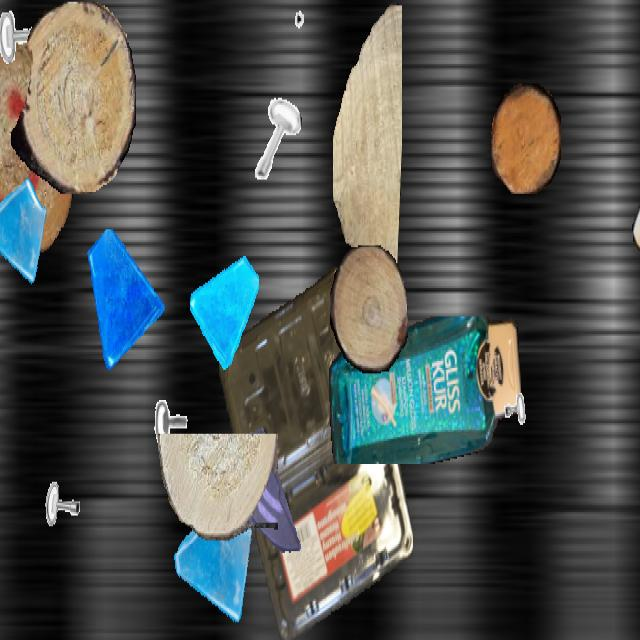glass: (172, 489, 256, 638), (85, 230, 165, 372), (226, 416, 306, 558), (190, 247, 258, 368), (0, 172, 49, 294)
metal: (0, 2, 53, 108), (39, 439, 91, 532), (251, 92, 301, 182), (152, 366, 198, 448), (495, 351, 539, 428), (294, 2, 334, 73)
plastic: (219, 265, 413, 638), (329, 316, 521, 462), (626, 2, 640, 272)
wood: (11, 2, 135, 194), (333, 1, 401, 282), (0, 36, 75, 252), (158, 434, 278, 540), (330, 245, 408, 374), (491, 84, 561, 194)
